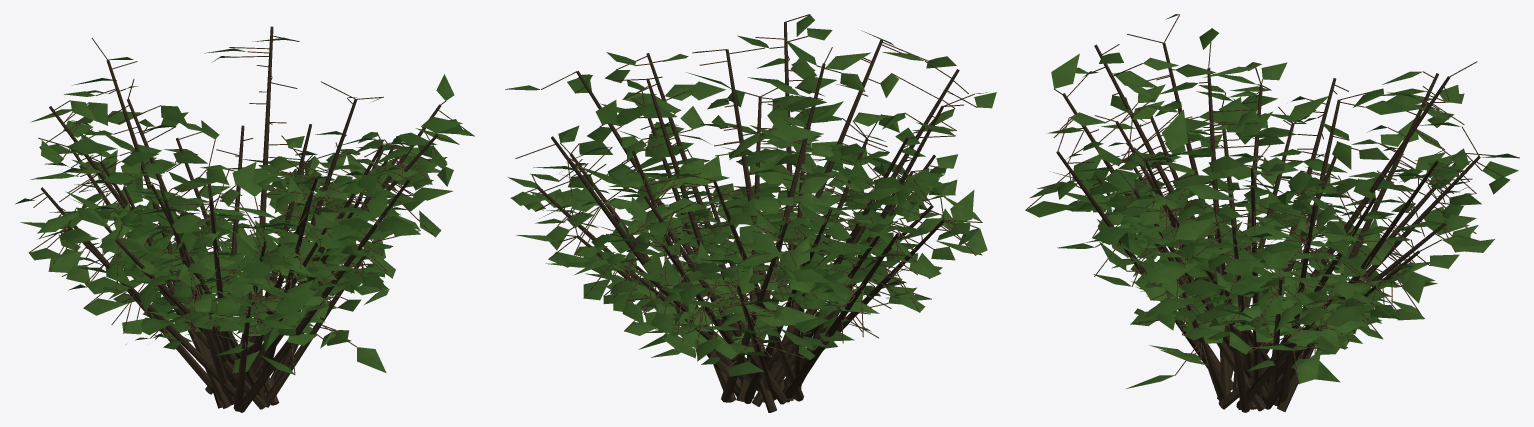
File: level_camp_shrub_decorative_a_refined.glb
3 views of the same model, side by side, from view 1: azimuth 30°, elevation 25°; view 2: azimuth 150°, elevation 25°; view 3: azimuth 270°, elevation 25° (orthographic). The views are drawn at different scales.
Visible parts, largest first — view 1: level_camp_shrub_decorative_a_refined; view 2: level_camp_shrub_decorative_a_refined; view 3: level_camp_shrub_decorative_a_refined.
Part boxes in pixels (<box>): level_camp_shrub_decorative_a_refined: <box>15,26,474,412</box>; level_camp_shrub_decorative_a_refined: <box>505,14,996,412</box>; level_camp_shrub_decorative_a_refined: <box>1025,14,1519,412</box>.
Size of the model in its own units: 2.78 by 1.85 by 2.58.
5 materials, 5 textured.
